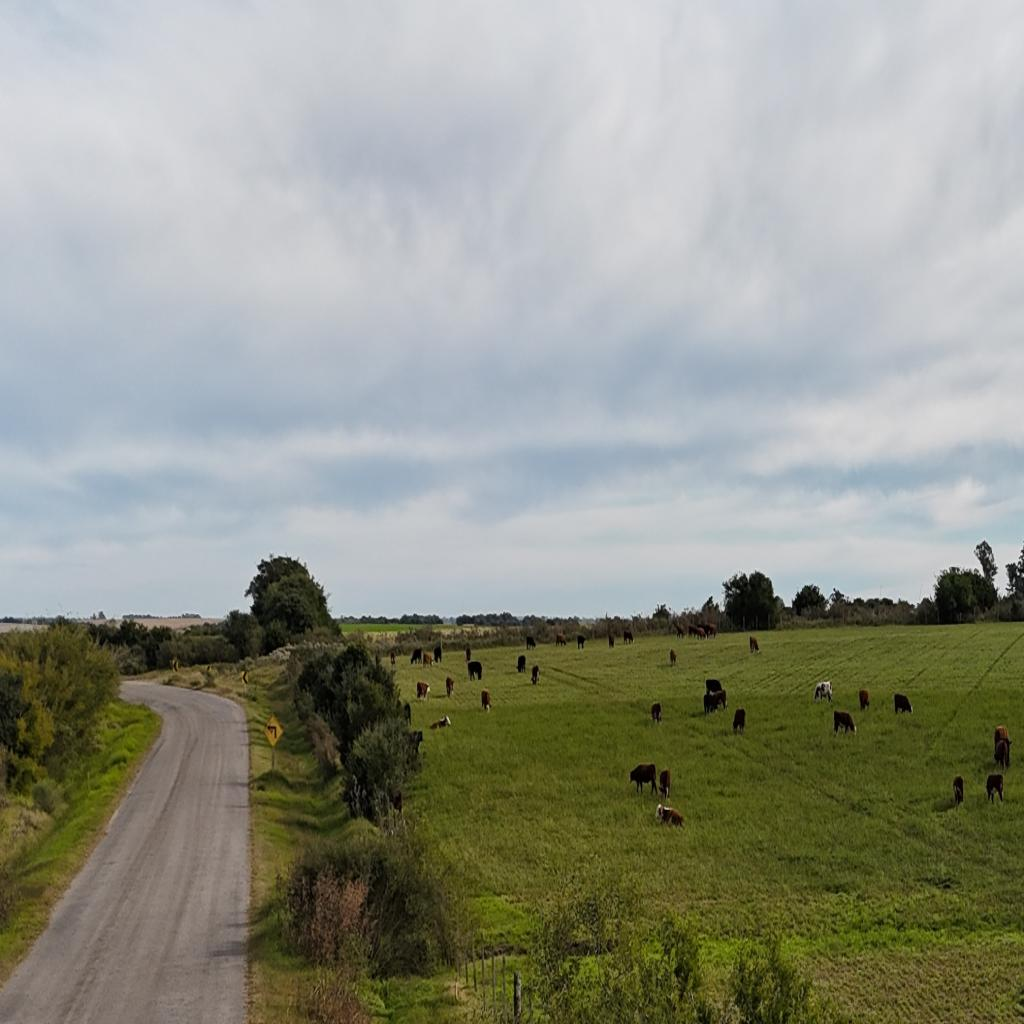cow: (629, 762, 657, 795), (656, 804, 684, 829), (986, 772, 1005, 804), (704, 688, 727, 714), (833, 710, 856, 735), (996, 738, 1011, 771), (657, 769, 672, 801), (814, 680, 832, 704), (894, 693, 913, 715), (995, 725, 1012, 747), (732, 708, 746, 734), (429, 714, 451, 730), (467, 660, 483, 681), (954, 775, 964, 807), (650, 702, 662, 726), (704, 678, 722, 694), (392, 791, 403, 817), (416, 681, 430, 701), (859, 689, 870, 711), (481, 689, 491, 711), (446, 676, 455, 699), (410, 648, 422, 665), (531, 664, 540, 685), (706, 624, 719, 638), (695, 625, 707, 640), (623, 630, 635, 645), (423, 652, 434, 668), (403, 702, 411, 724), (517, 655, 526, 673), (750, 635, 759, 653), (434, 645, 442, 664), (676, 624, 685, 640), (526, 636, 536, 650), (556, 633, 566, 647), (688, 625, 697, 639), (577, 635, 585, 649), (466, 646, 472, 663), (670, 649, 676, 665), (390, 652, 396, 666), (608, 634, 614, 648)
